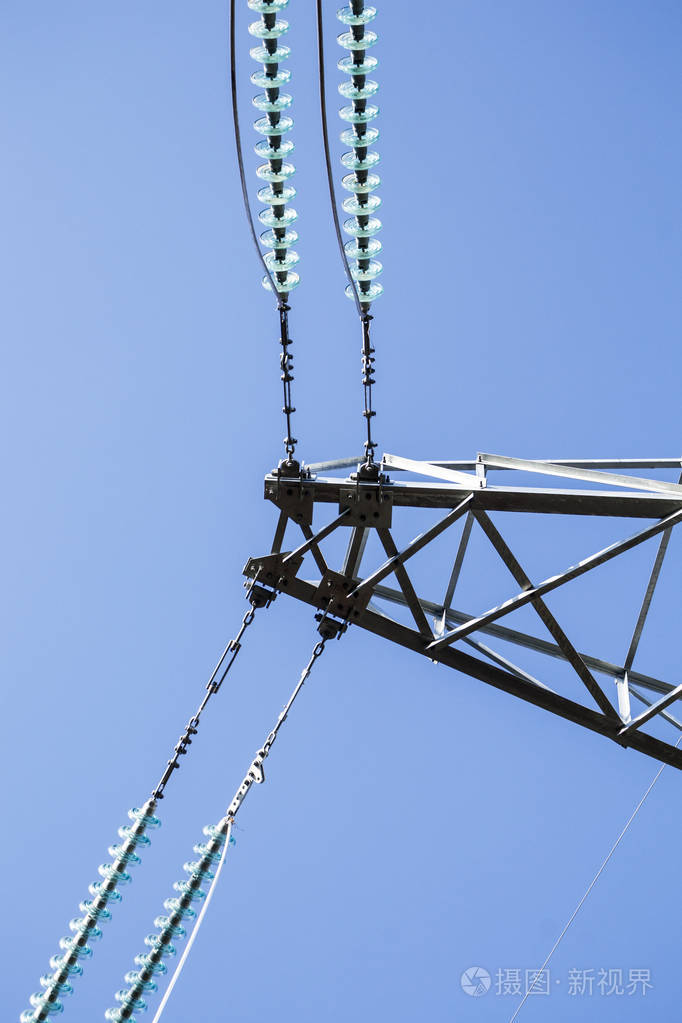insulator: (25, 808, 161, 1023), (106, 820, 235, 1023), (333, 2, 389, 299), (247, 1, 300, 299)
